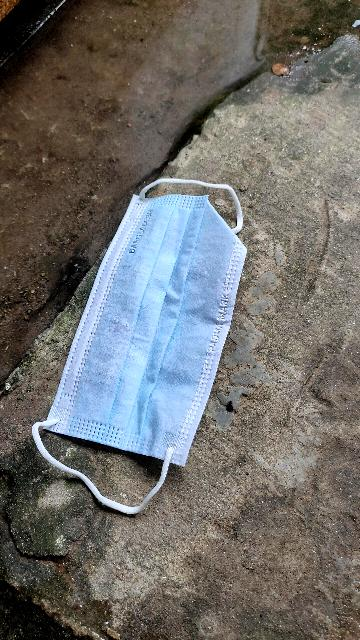mask: (33, 147, 250, 524)
